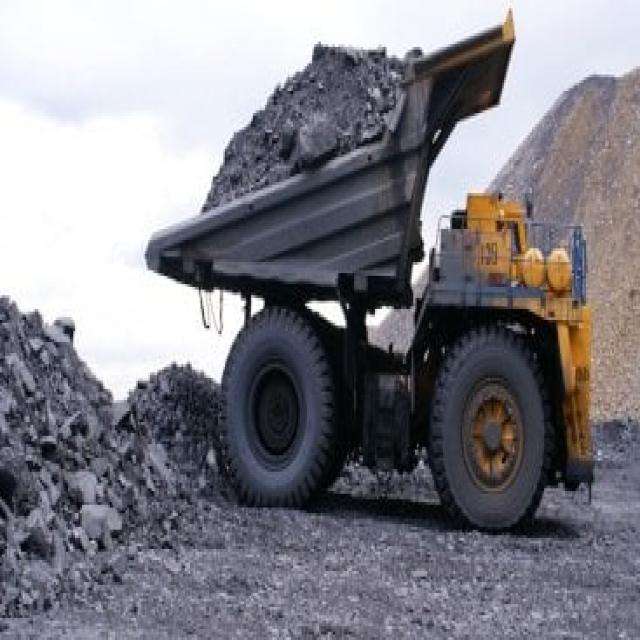dump_truck: (138, 16, 602, 532)
